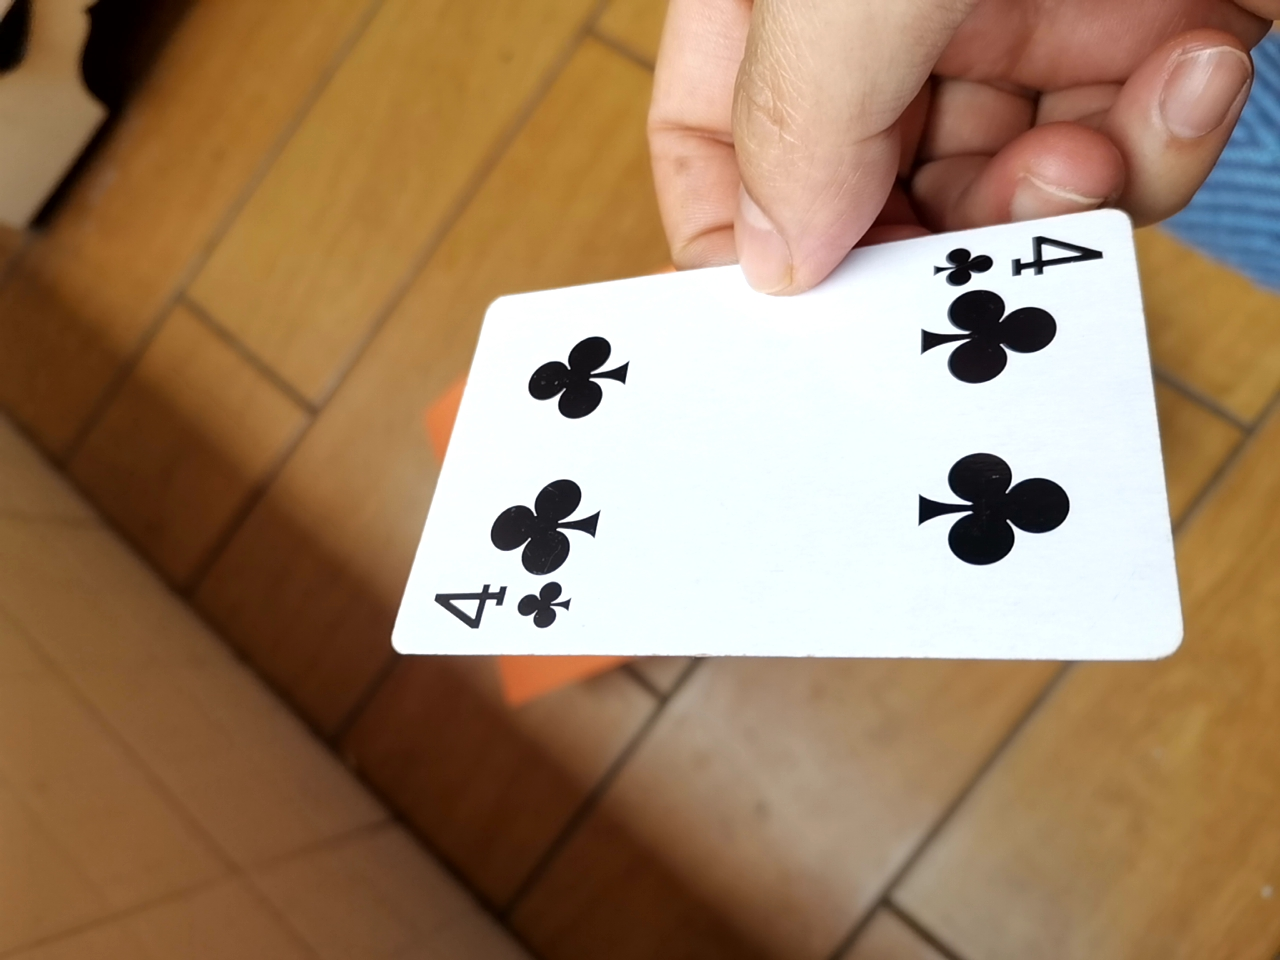mh 4: (363, 224, 1190, 674)
